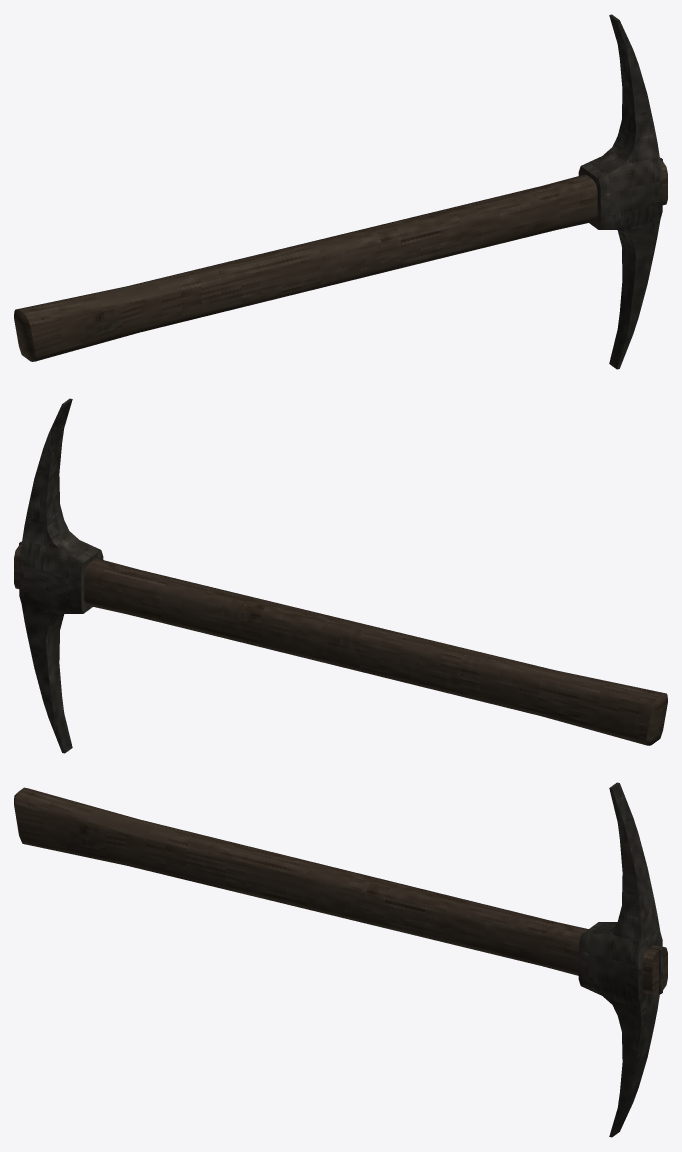
File: shop-item-1044.glb
3 renders of one model, top to bottom at view 1: azimuth 30°, elevation 25°; view 2: azimuth 150°, elevation 25°; view 3: azimuth 330°, elevation 25°, orthographic.
Parts seen in each view (by area): view 1: pick_axe_mx_1; view 2: pick_axe_mx_1; view 3: pick_axe_mx_1.
Part boxes in pixels (x1,y1,x2,y2): pick_axe_mx_1: (14,14,667,369); pick_axe_mx_1: (14,398,667,753); pick_axe_mx_1: (14,782,667,1137).
Size of the model in its own units: 0.8474 by 0.4389 by 0.056.
Materials: 2 (2 with a texture image).
